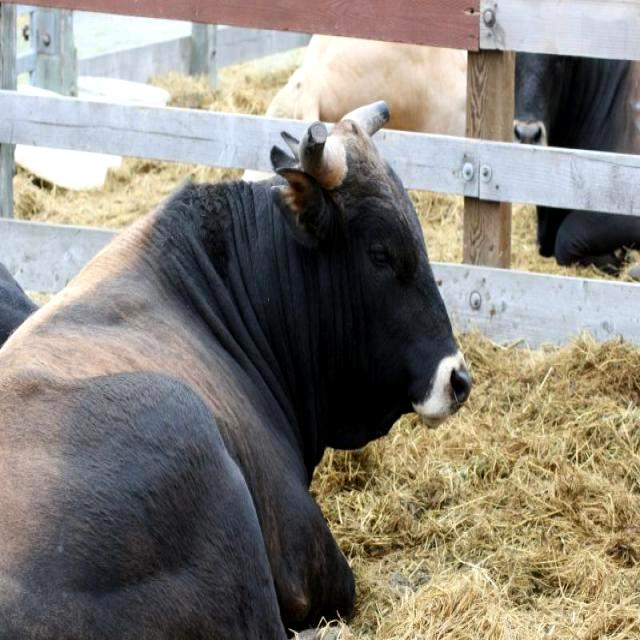COW: (0, 103, 470, 637)
